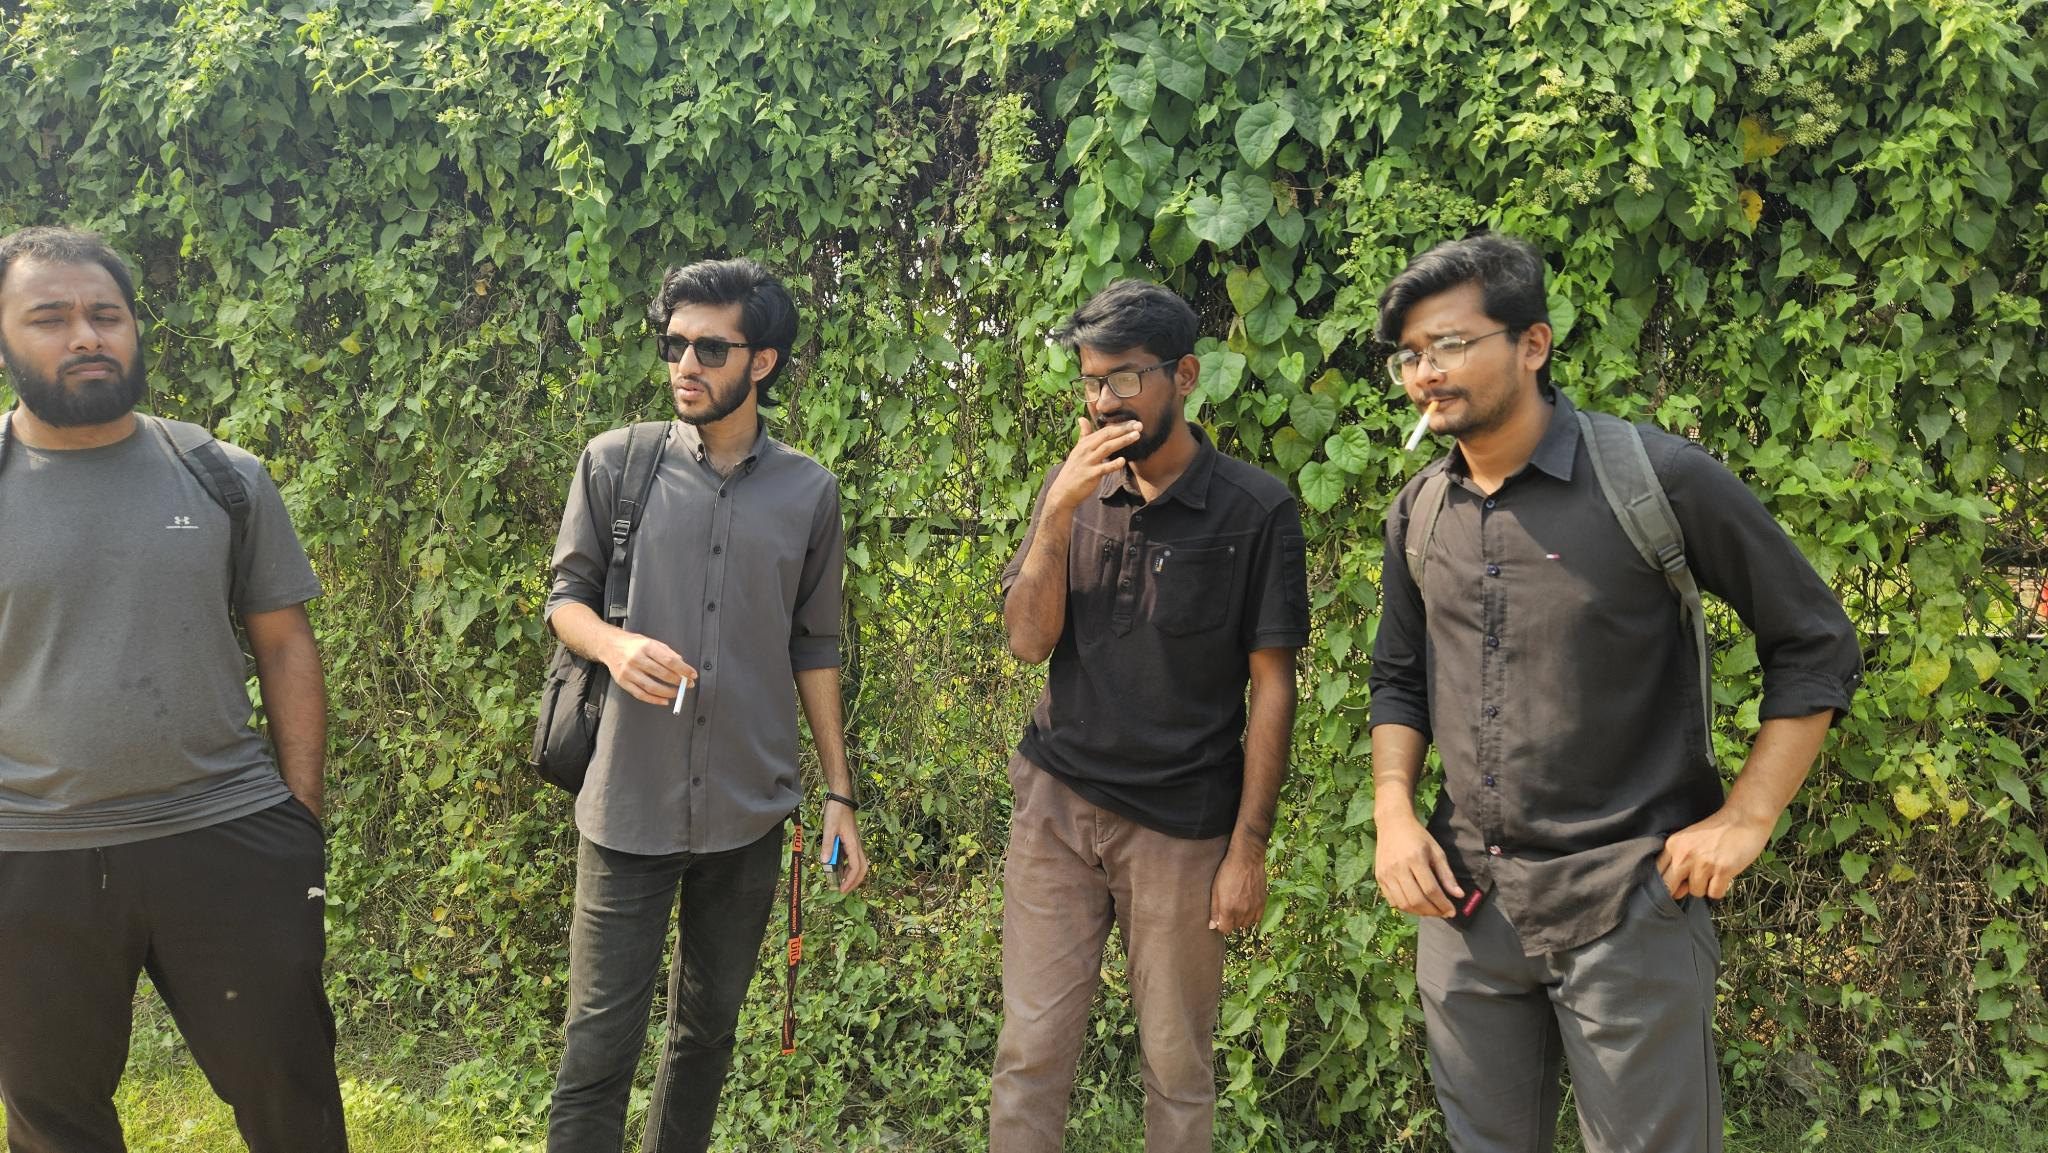cigarette: (1402, 397, 1440, 456), (671, 675, 689, 717)
nonSmoker: (0, 225, 349, 1153), (992, 278, 1312, 1153)
smoker: (1367, 238, 1861, 1153), (529, 257, 868, 1153)
